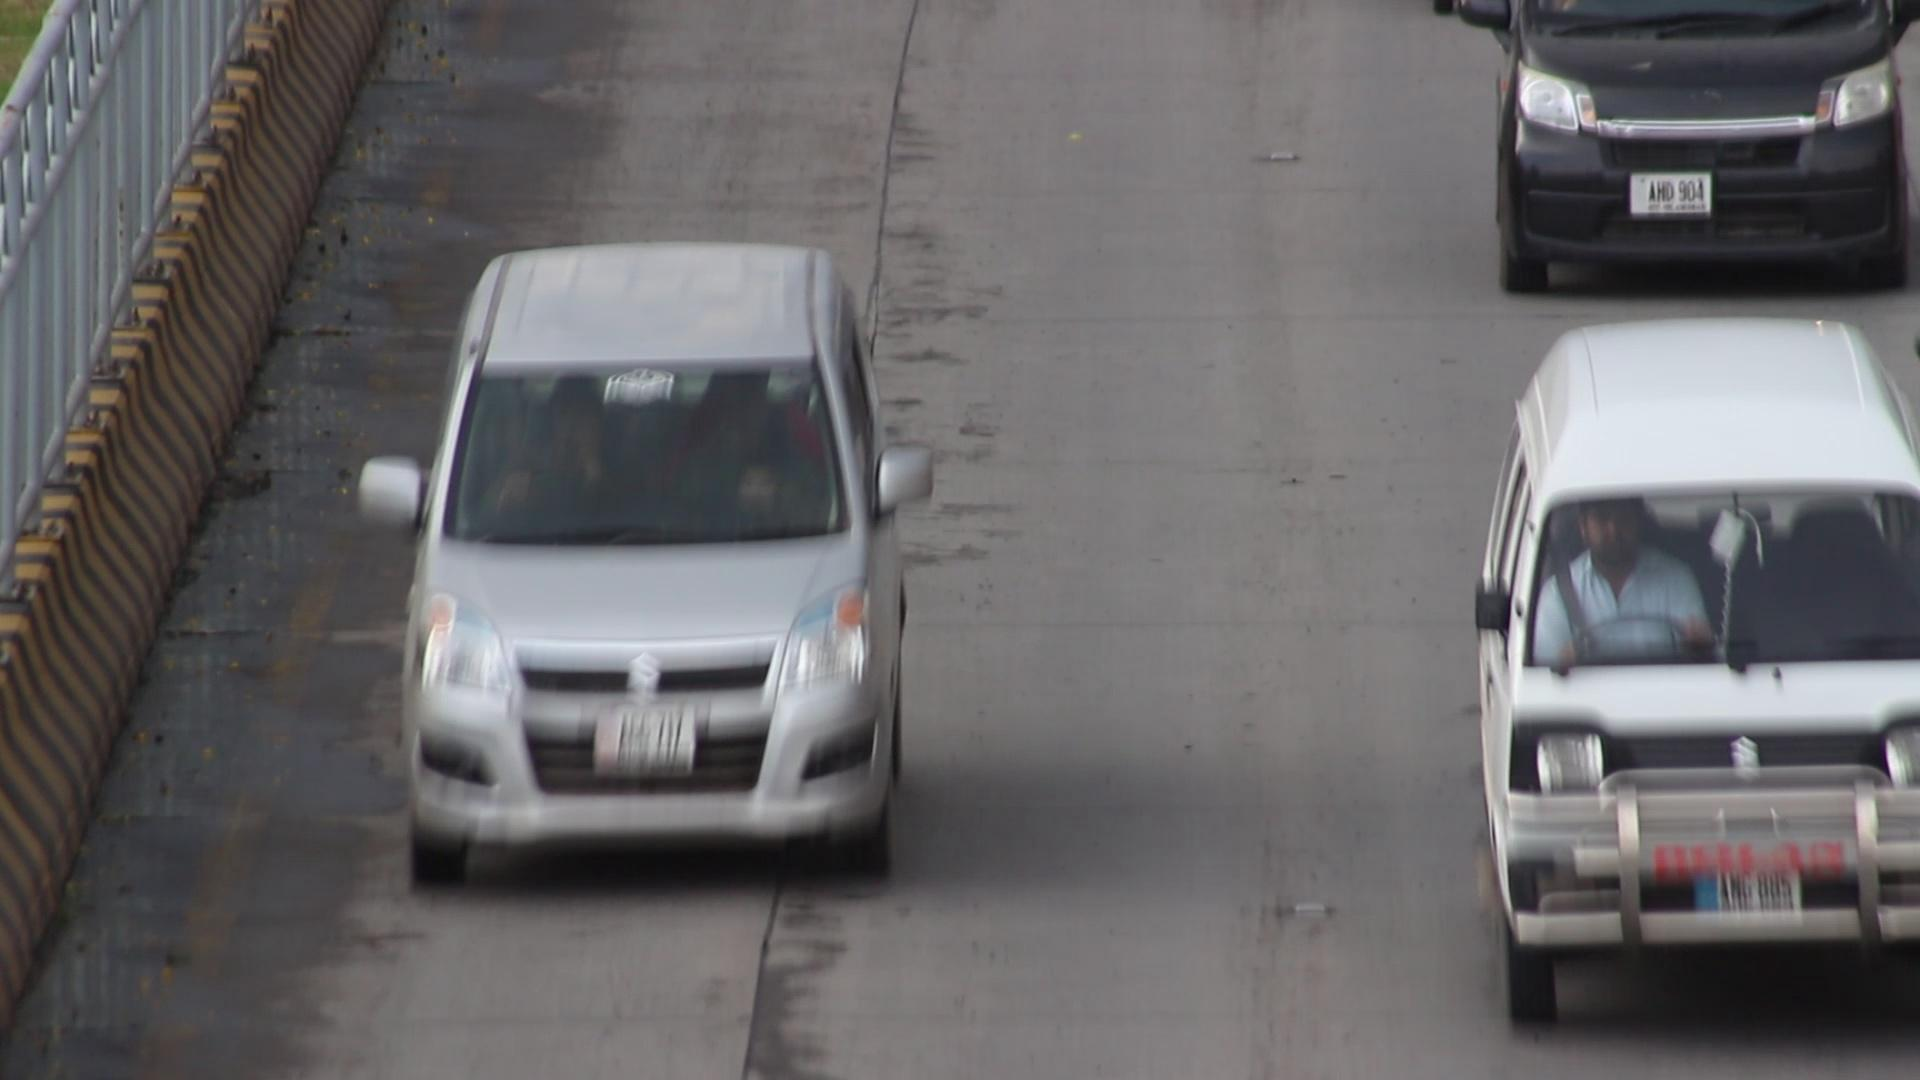windshield: (434, 336, 870, 550)
